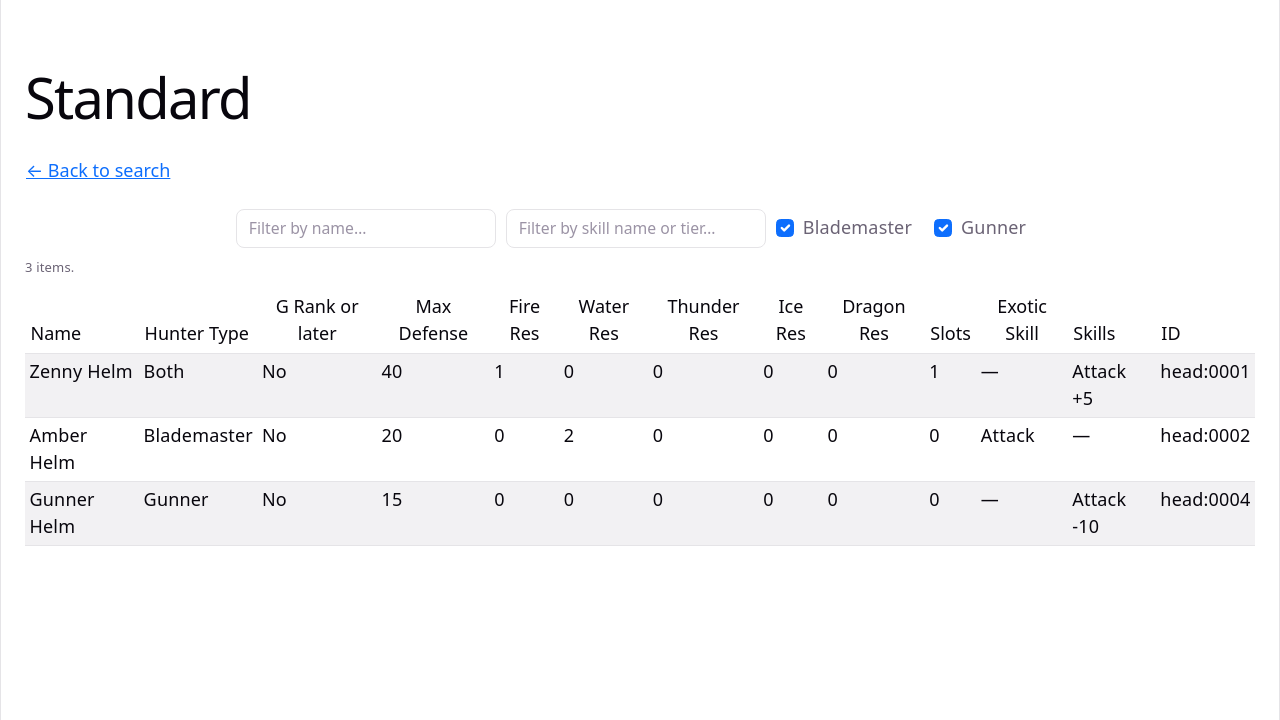
Scenario: CategoryTablePage › unchecking Blademaster hides blademaster-only pieces but keeps common and gunner pieces
Click the checkbox labelled "Blademaster": (785, 228) top-left (776, 218), bottom-right (794, 236)
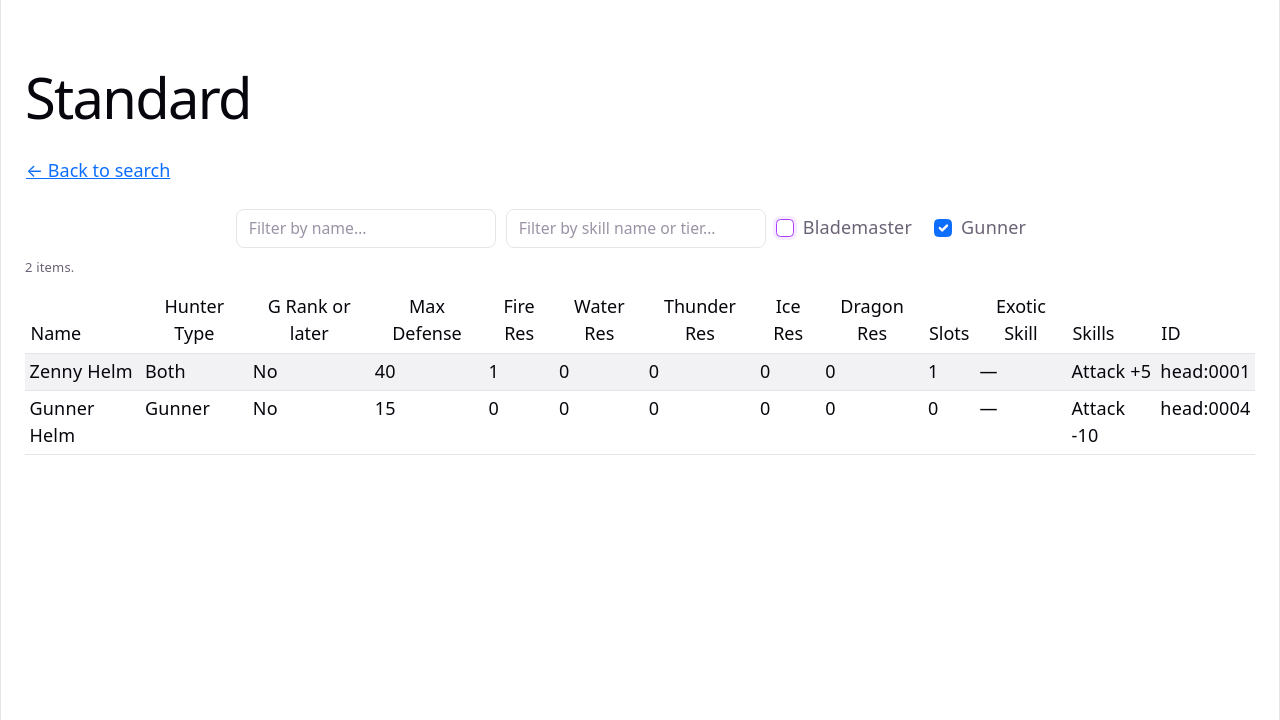
Check: the text "Zenny Helm" is shown, box top-left (25, 354), bottom-right (140, 390)
Check: the text "Amber Helm" is gone
